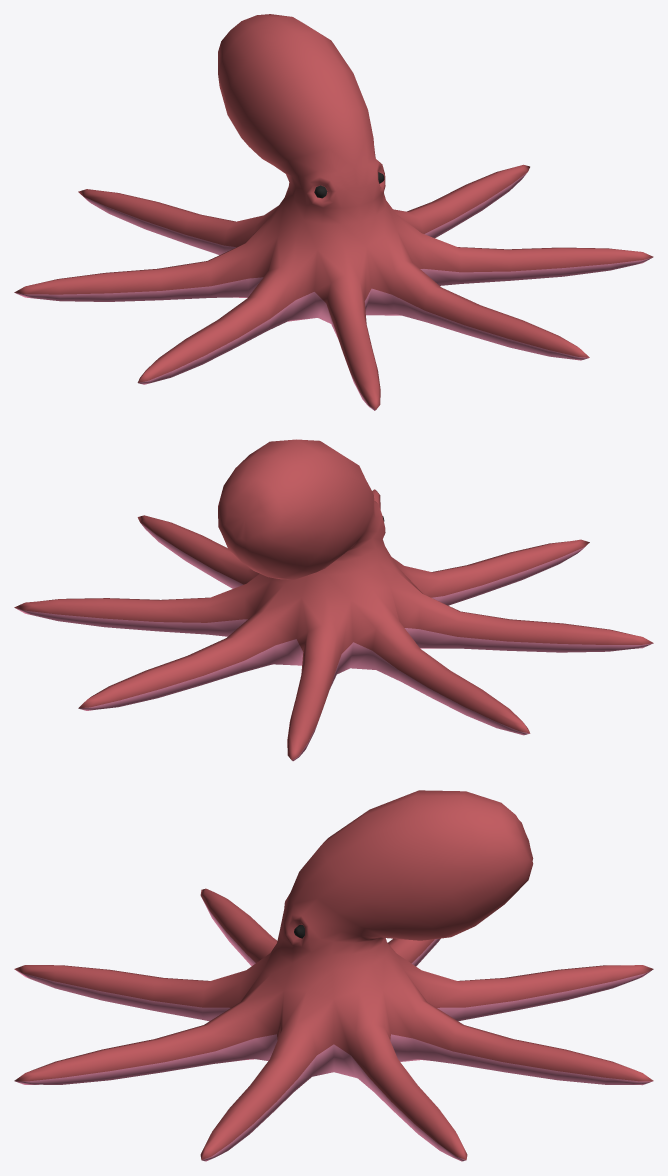
File: Octopus_001.glb
3 renders of one model, top to bottom at view 1: azimuth 30°, elevation 25°; view 2: azimuth 150°, elevation 25°; view 3: azimuth 270°, elevation 25°, orthographic. The views are drawn at different scales.
Visible parts, largest first — view 1: Octopus_001; view 2: Octopus_001; view 3: Octopus_001.
Part boxes in pixels (x1,y1,x2,y2): Octopus_001: (14, 14, 653, 410); Octopus_001: (14, 439, 653, 761); Octopus_001: (14, 790, 653, 1161).
Bounding box in the file's own units: 2.65 × 1.16 × 2.65.
1 material, 1 textured.
